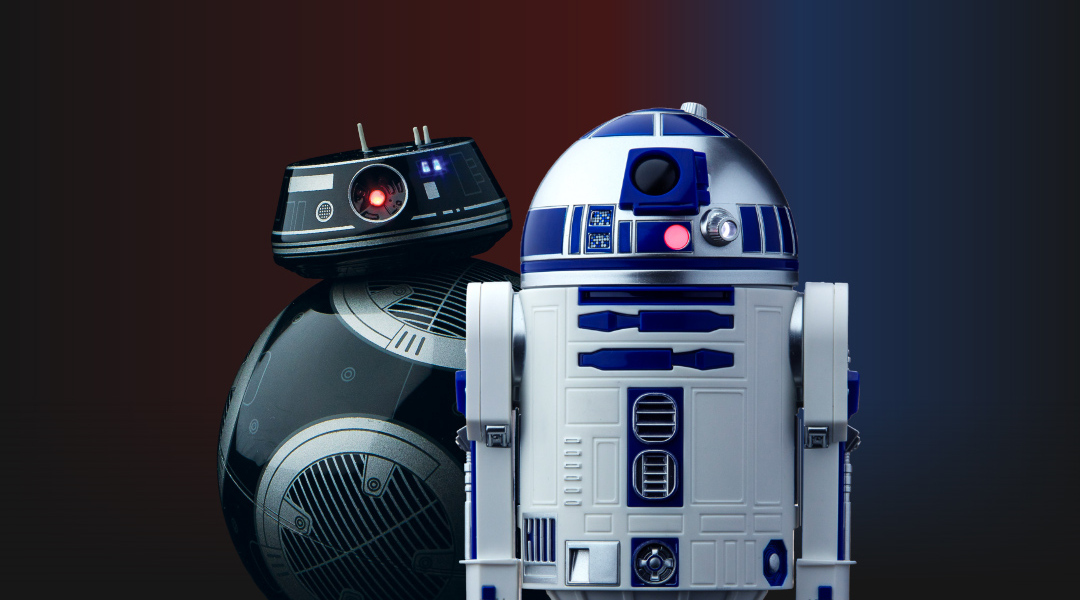r2d2: (472, 111, 852, 593)
